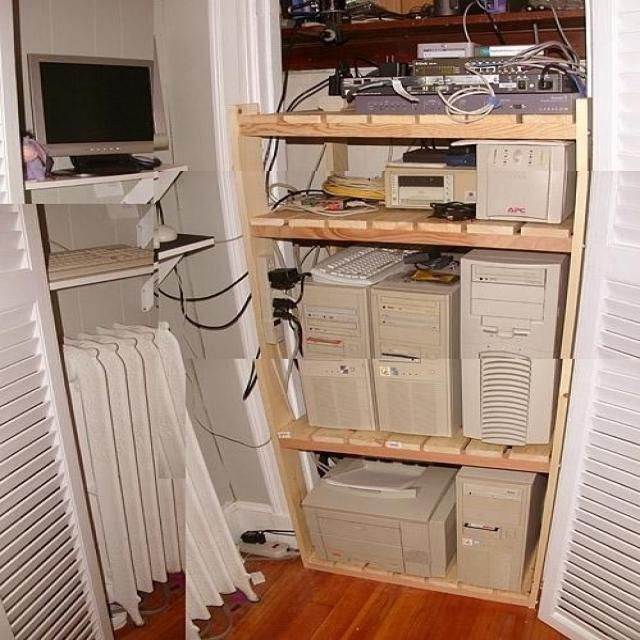Cable: (178, 76, 332, 326), (361, 62, 564, 123)
E-waste: (320, 248, 552, 450), (292, 463, 537, 590), (346, 132, 560, 225), (24, 45, 172, 170)
Plastics: (0, 311, 227, 640)
